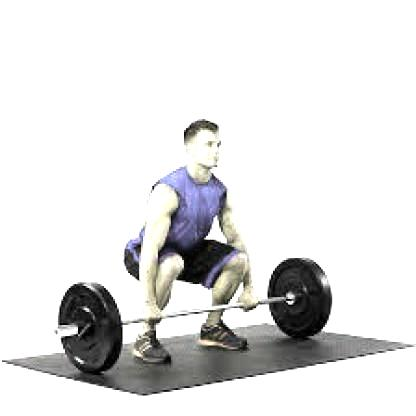Barbell: (48, 321, 63, 341)
